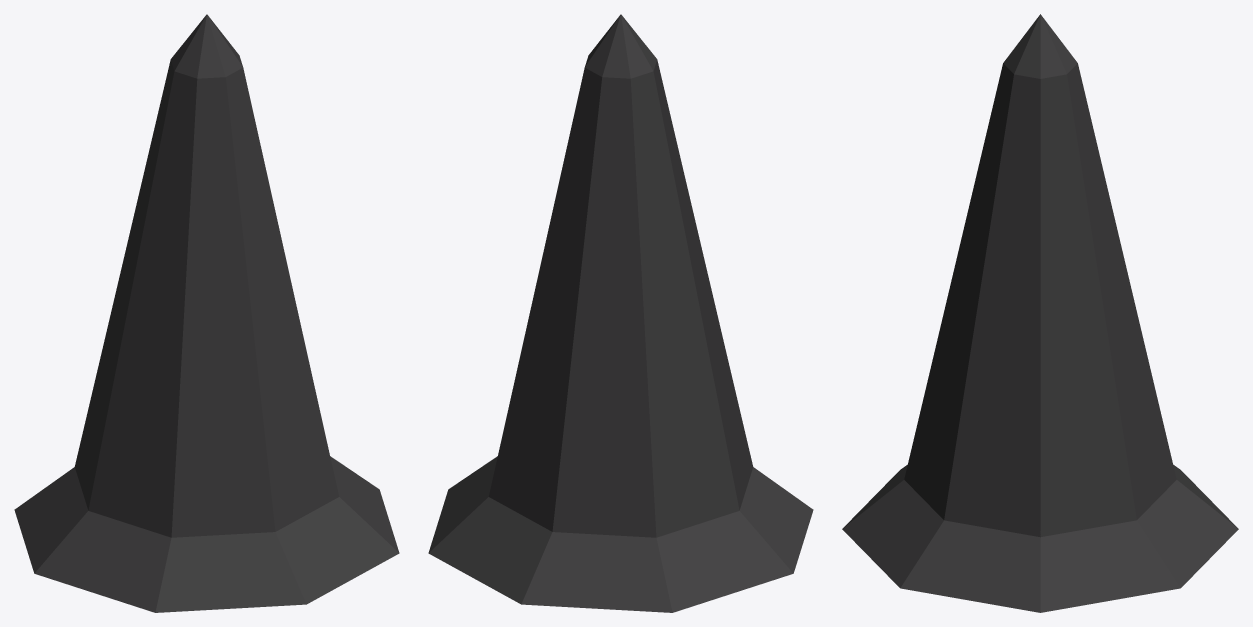
File: Stal_2A.fbx
3 renders of one model, left to right at view 1: azimuth 30°, elevation 25°; view 2: azimuth 150°, elevation 25°; view 3: azimuth 270°, elevation 25°, orthographic.
Parts seen in each view (by area): view 1: pCone26; view 2: pCone26; view 3: pCone26.
Part boxes in pixels (box(x1,y1,x2,y2)): pCone26: box(14, 14, 399, 612); pCone26: box(428, 14, 813, 612); pCone26: box(842, 14, 1238, 612).
Size of the model in its own units: 0.6982 by 1 by 0.6982.
